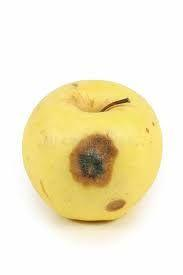Apple: (21, 80, 163, 224)
